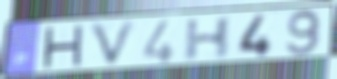4: (235, 12, 275, 60), (141, 18, 177, 66)
9: (284, 8, 323, 58)
H: (182, 15, 235, 63), (39, 23, 86, 73)
V: (87, 19, 141, 70)
